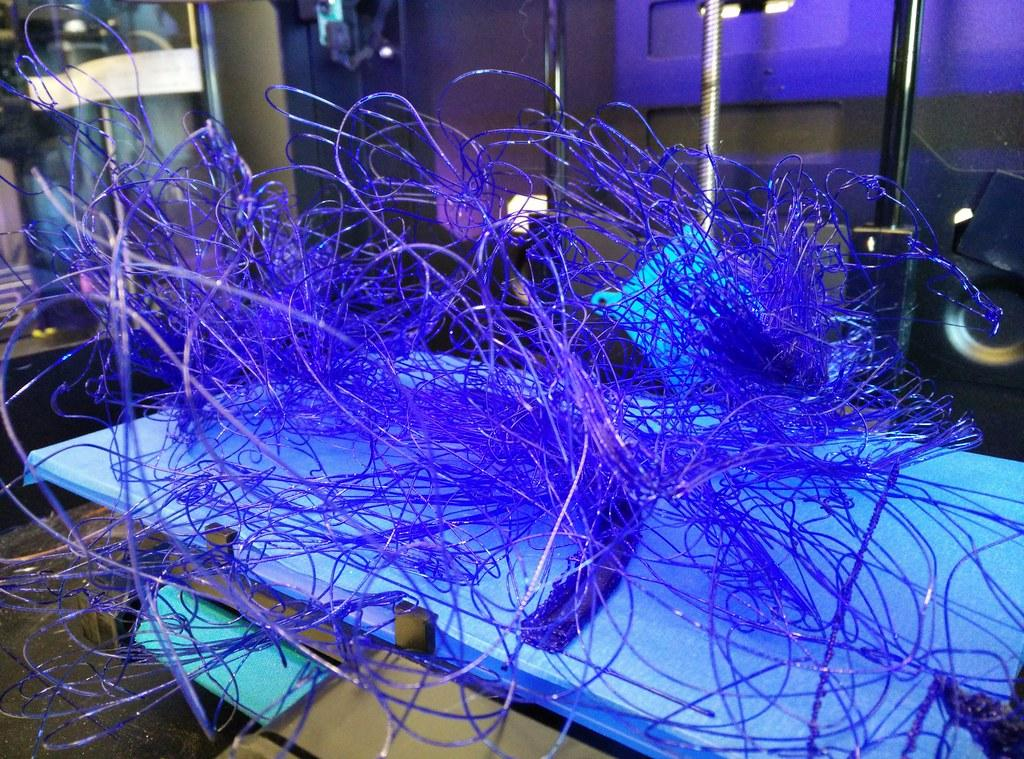Printing-Artifact: (1, 83, 941, 747)
